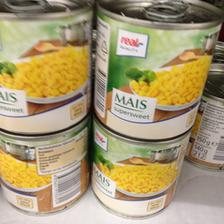Mais: (93, 0, 222, 140), (0, 0, 92, 136), (88, 119, 192, 218), (0, 129, 90, 213)
